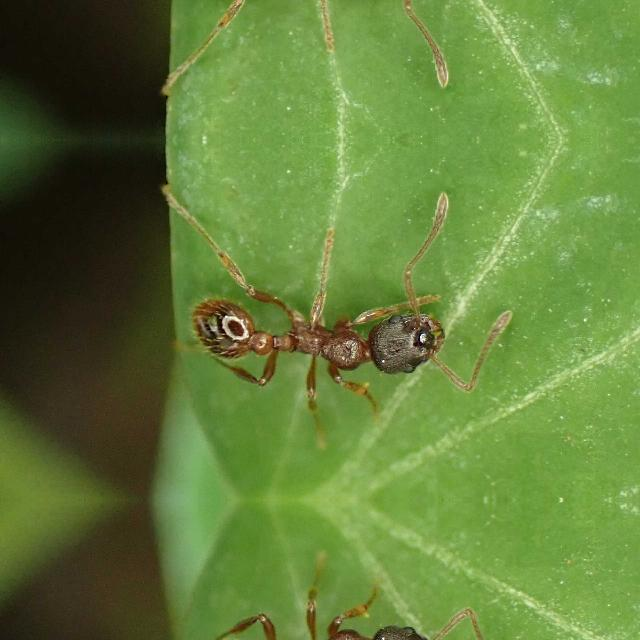Myrmica: (176, 268, 492, 396), (176, 604, 492, 640)
